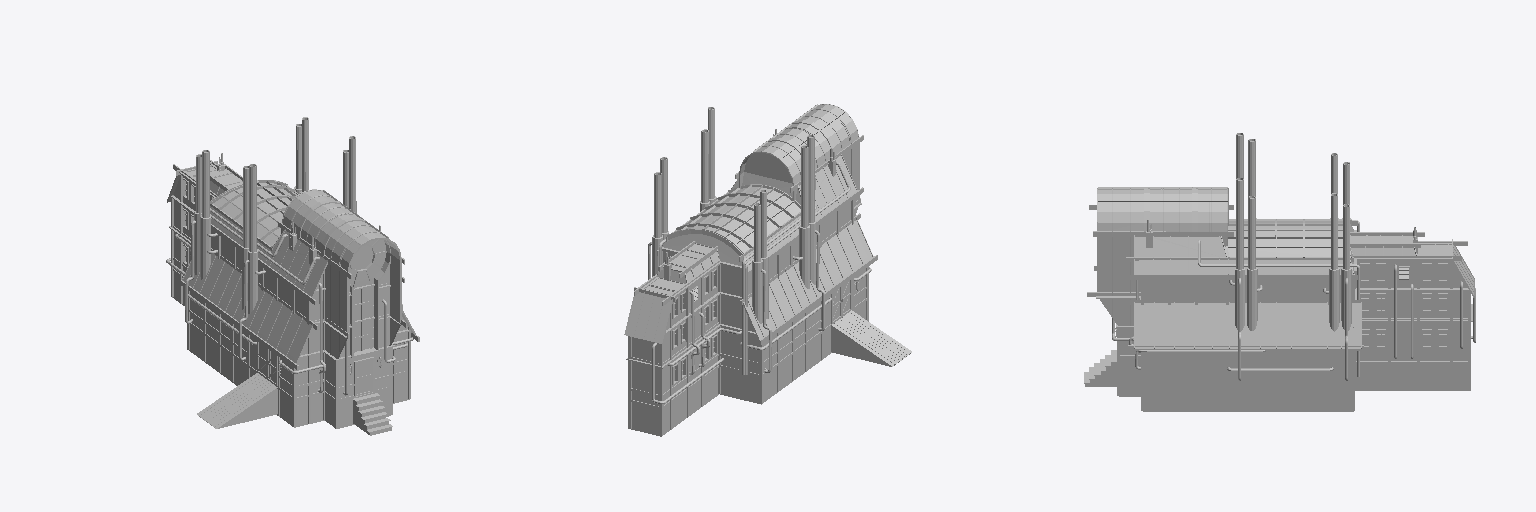
The model's file is FACTORY_BF_TIR_1.obj.
The picture shows the model from 3 angles: view 1: azimuth 30°, elevation 25°; view 2: azimuth 150°, elevation 25°; view 3: azimuth 270°, elevation 25°; orthographic projection.
Parts seen in each view (by area): view 1: Box380, Cylinder130, Shape857, Line113, Line114, Box407, Box405, Shape860, Shape874, Box406, Shape856, Box392 (+5 smaller); view 2: Box380, Cylinder130, Line113, Shape857, Line114, Box407, Shape874, Circle100, Shape871, Shape861, Box406, Shape864 (+2 smaller); view 3: Box380, Cylinder130, Line114, Shape857, Line113, Shape874, Shape861, Box405, Circle100, Shape864, Shape868, Shape872.
Boxes of the visible parts, x1,y1,x2,y2 form: Box380: [168, 167, 413, 428]; Cylinder130: [194, 117, 356, 313]; Shape857: [171, 175, 410, 428]; Line113: [166, 208, 413, 395]; Line114: [173, 160, 419, 369]; Box407: [197, 373, 277, 428]; Box405: [353, 393, 392, 435]; Shape860: [349, 240, 390, 357]; Shape874: [173, 226, 407, 400]; Box406: [204, 389, 277, 428]; Shape856: [349, 239, 386, 352]; Box392: [257, 341, 277, 385]; Box380: [625, 104, 872, 436]; Cylinder130: [652, 107, 815, 323]; Line113: [648, 162, 871, 403]; Shape857: [628, 200, 868, 436]; Line114: [634, 135, 877, 344]; Box407: [831, 310, 911, 366]; Shape874: [631, 287, 866, 408]; Circle100: [672, 269, 716, 384]; Shape871: [676, 193, 794, 247]; Shape861: [626, 203, 861, 368]; Box406: [831, 326, 905, 366]; Shape864: [624, 154, 857, 343]; Box380: [1098, 189, 1473, 411]; Cylinder130: [1235, 133, 1351, 331]; Line114: [1087, 205, 1467, 350]; Shape857: [1117, 260, 1470, 410]; Line113: [1112, 220, 1475, 380]; Shape874: [1120, 318, 1467, 383]; Shape861: [1096, 230, 1472, 328]; Box405: [1084, 350, 1116, 386]; Circle100: [1360, 263, 1447, 347]; Shape864: [1134, 229, 1474, 297]; Shape868: [1134, 302, 1361, 348]; Shape872: [1228, 229, 1342, 247].
Bounding box in the file's own units: 136 × 162 × 252.